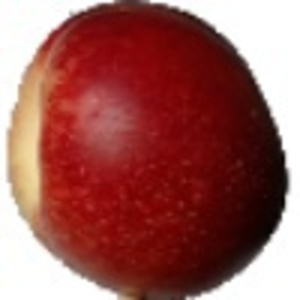nectarina: (4, 1, 288, 300)
